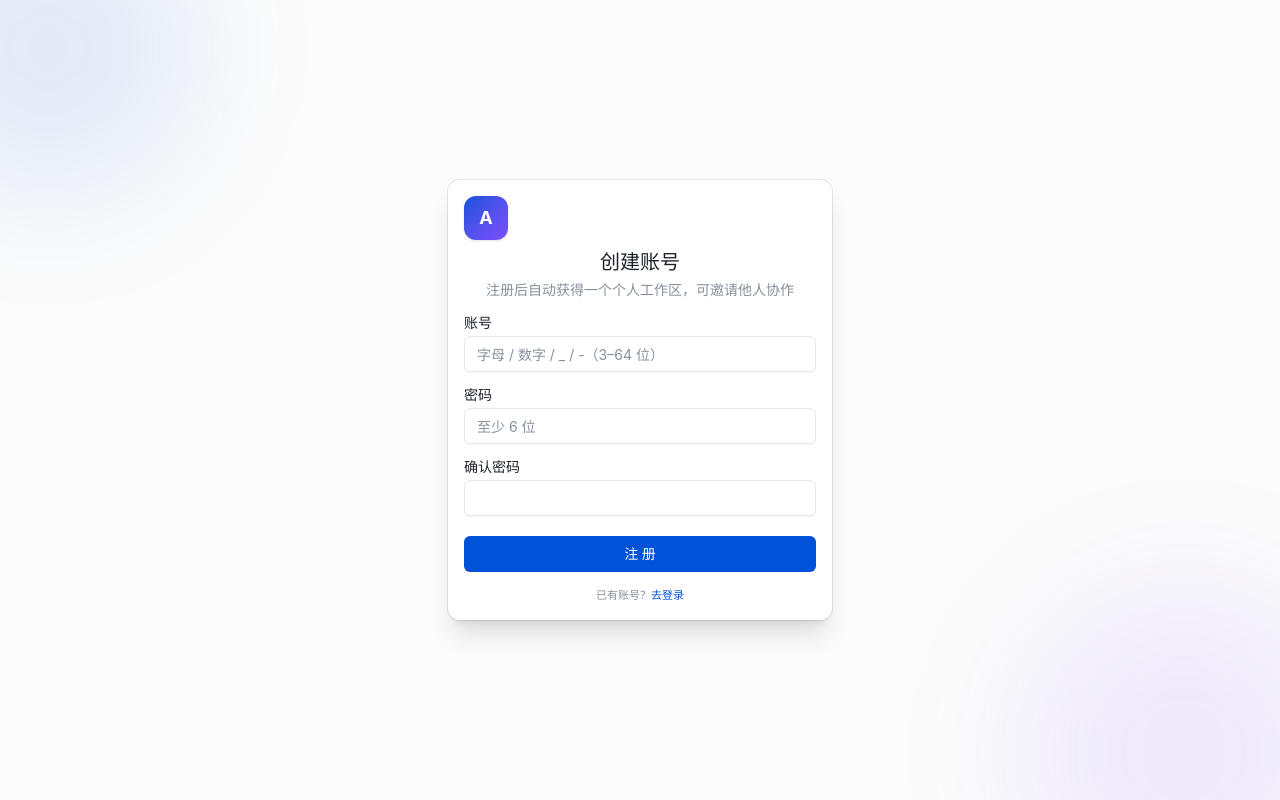
Scenario: T46a-4：注册页 › 两次密码不一致：本地拦下，不打接口
In the field with test id "register-username": (640, 354) [464,336,816,372], type "alice"
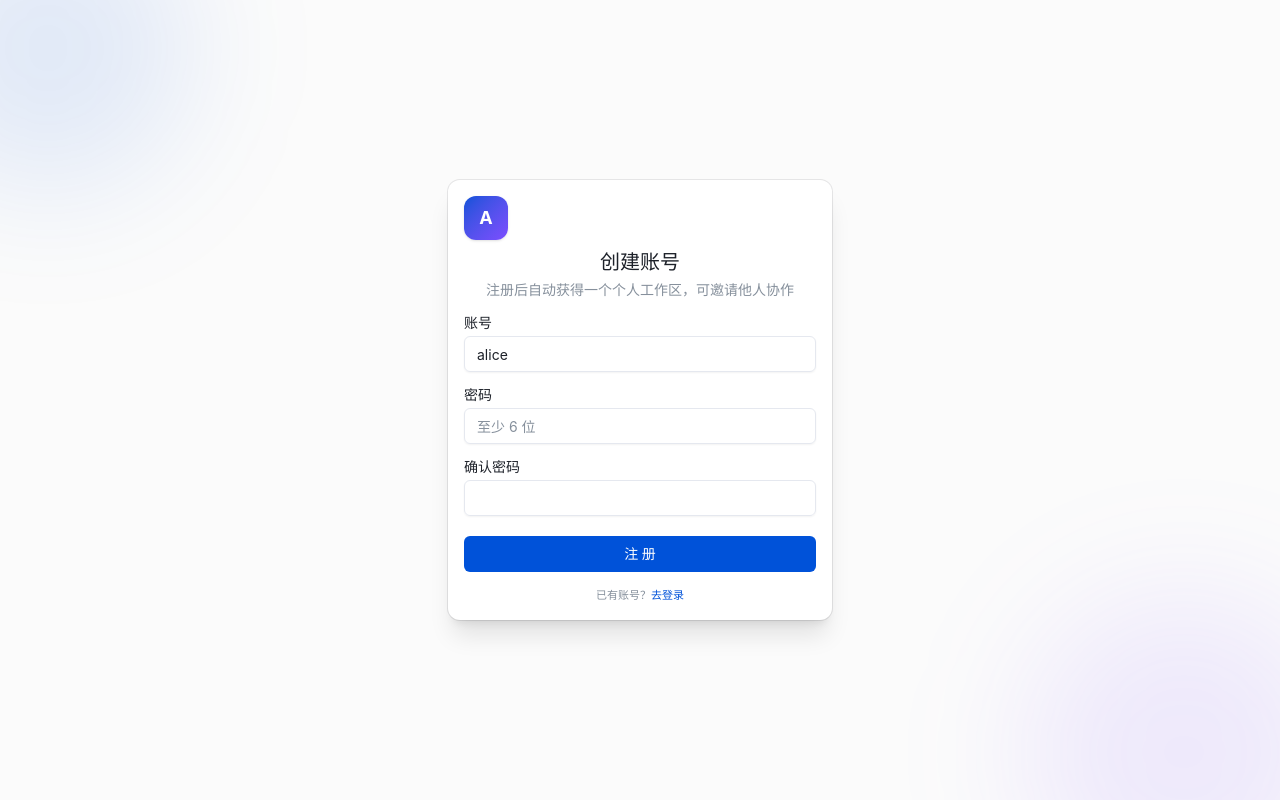
In the password field with test id "register-password": (640, 426) [464,408,816,444], type "alice123"
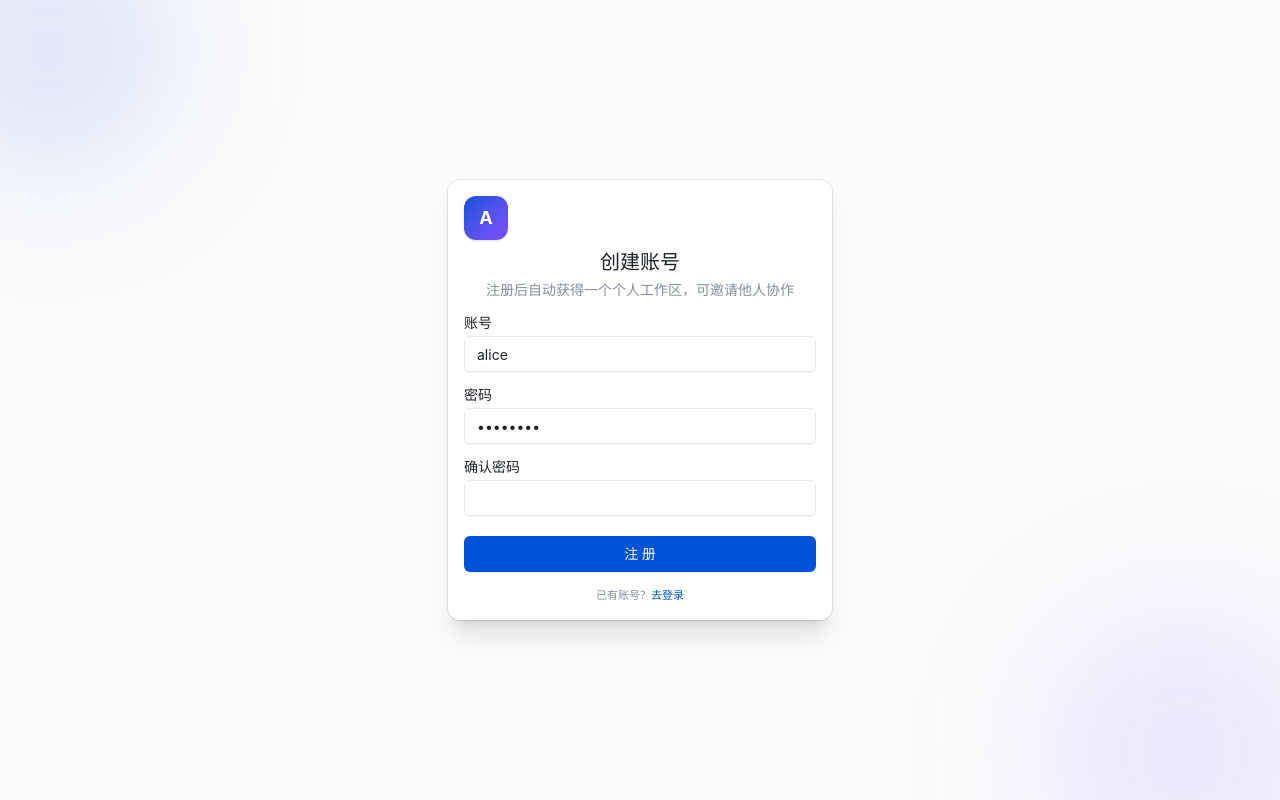
In the password field with test id "register-confirm": (640, 498) [464,480,816,516], type "alice124"
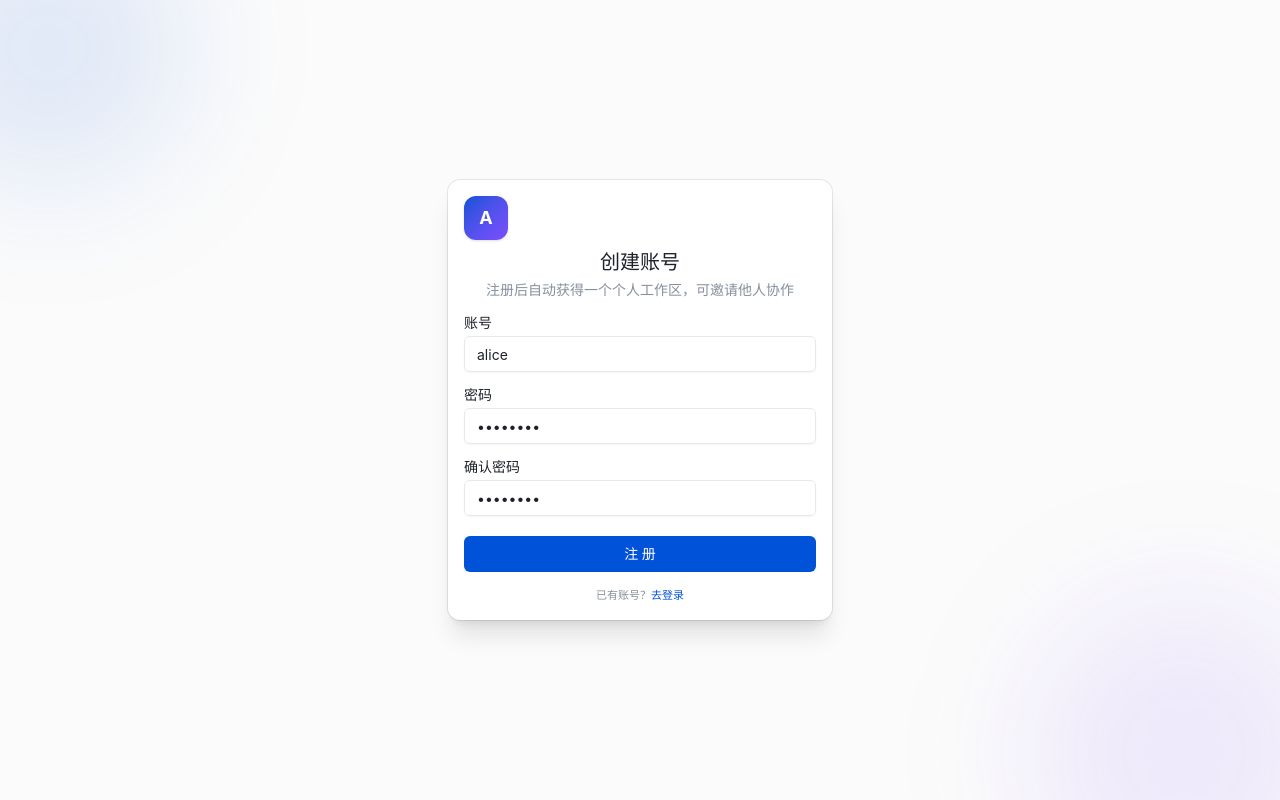
Click the button with test id "register-submit": (640, 554) [464,536,816,572]
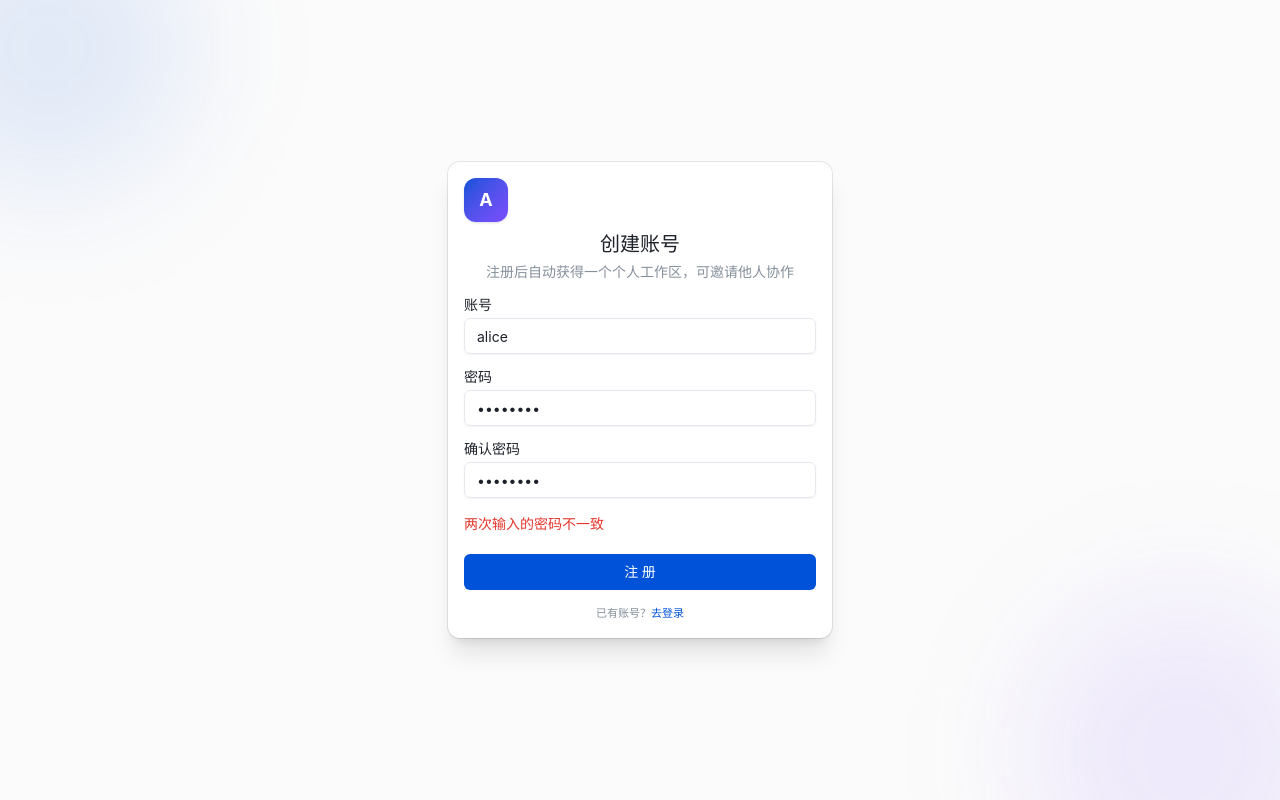
expect the text with test id "register-error" reads "两次输入的密码不一致": met, box [464,515,604,532]
